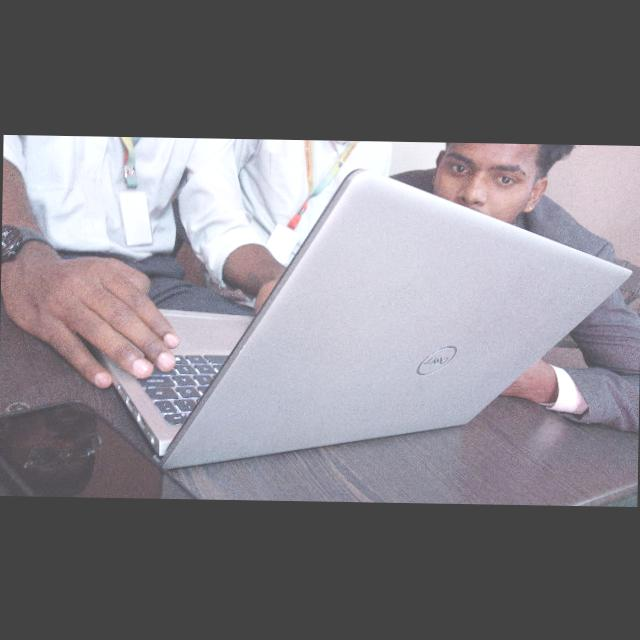laptop: (158, 230, 592, 480)
